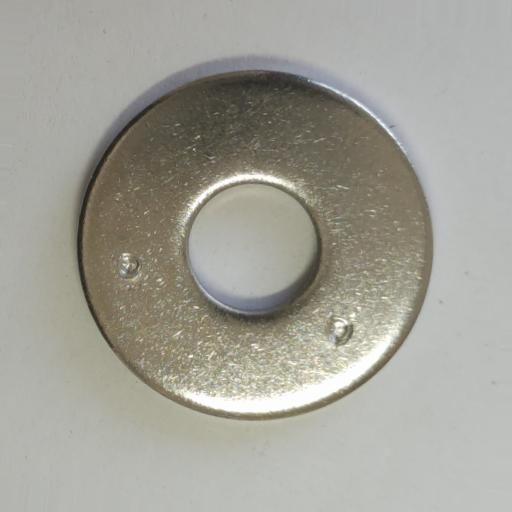circular_cavity: (326, 315, 354, 344), (118, 254, 141, 279)
